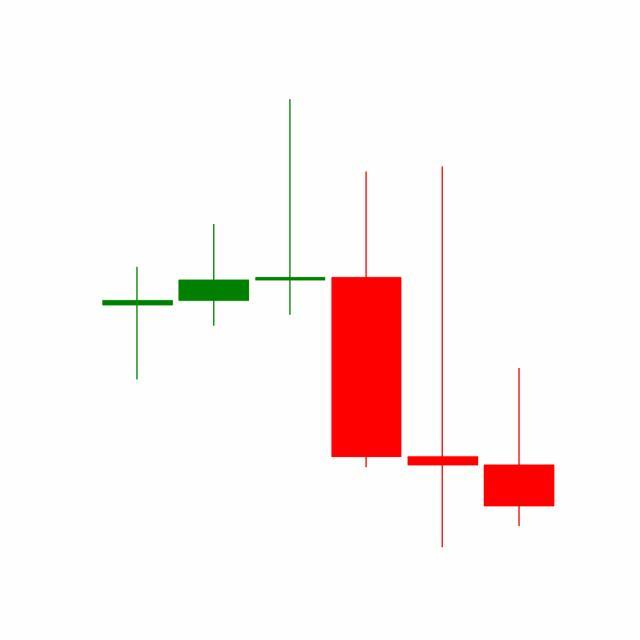Spinning Top: (404, 162, 482, 552)
